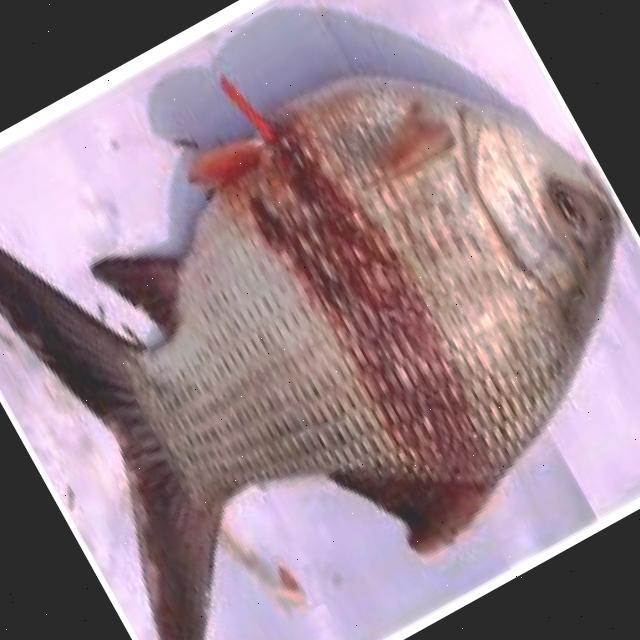Edwardsiella Ictaluri -Bacterial Red Disease-: (0, 78, 621, 640)
